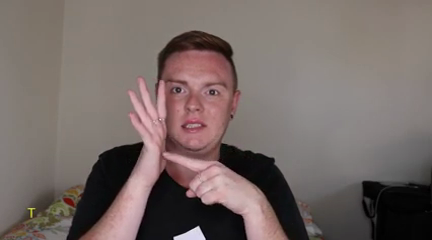T: (116, 72, 259, 219)
